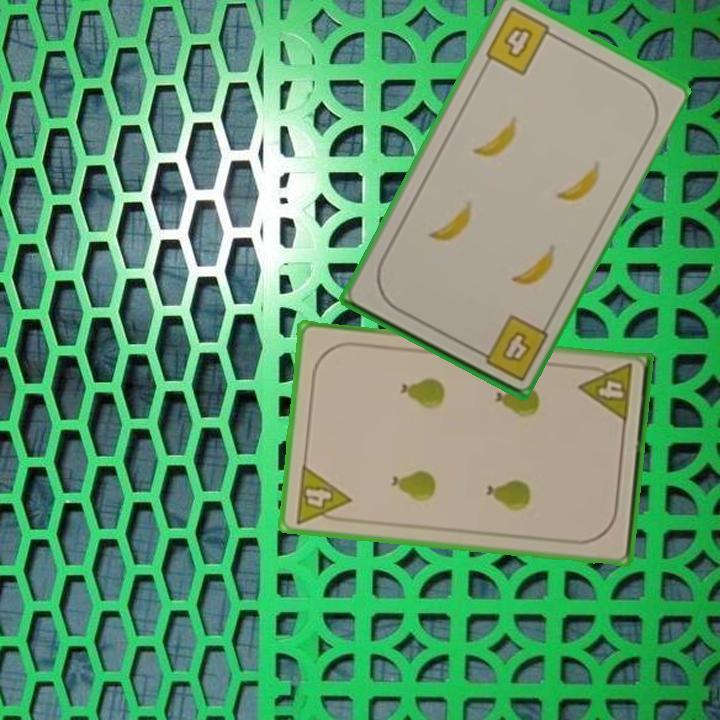4b: (470, 310, 551, 385), (481, 3, 560, 79)
4p: (291, 461, 354, 527), (576, 360, 636, 426)
